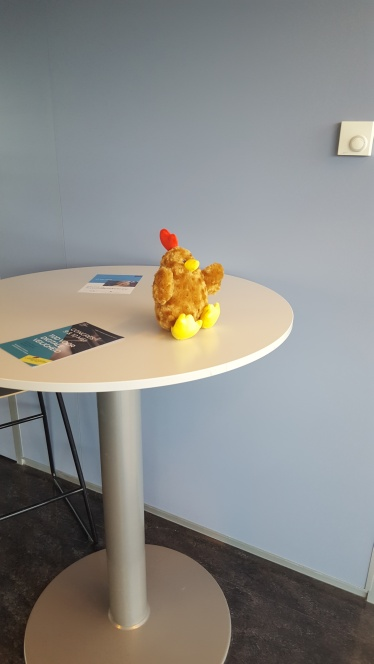chicken_left: (151, 228, 195, 339)
